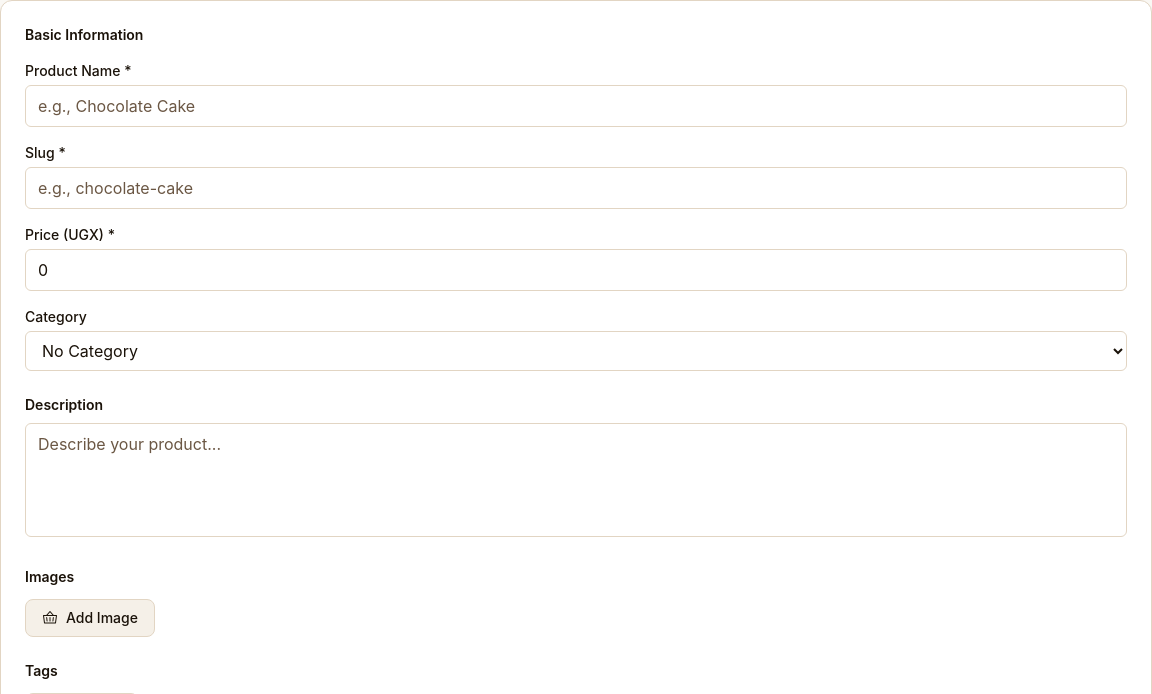
Test: ProductForm › Image handling › adds image URL input when Add Image button is clicked
Click the button "Add Image" at (90, 618), box [25,599,155,637]
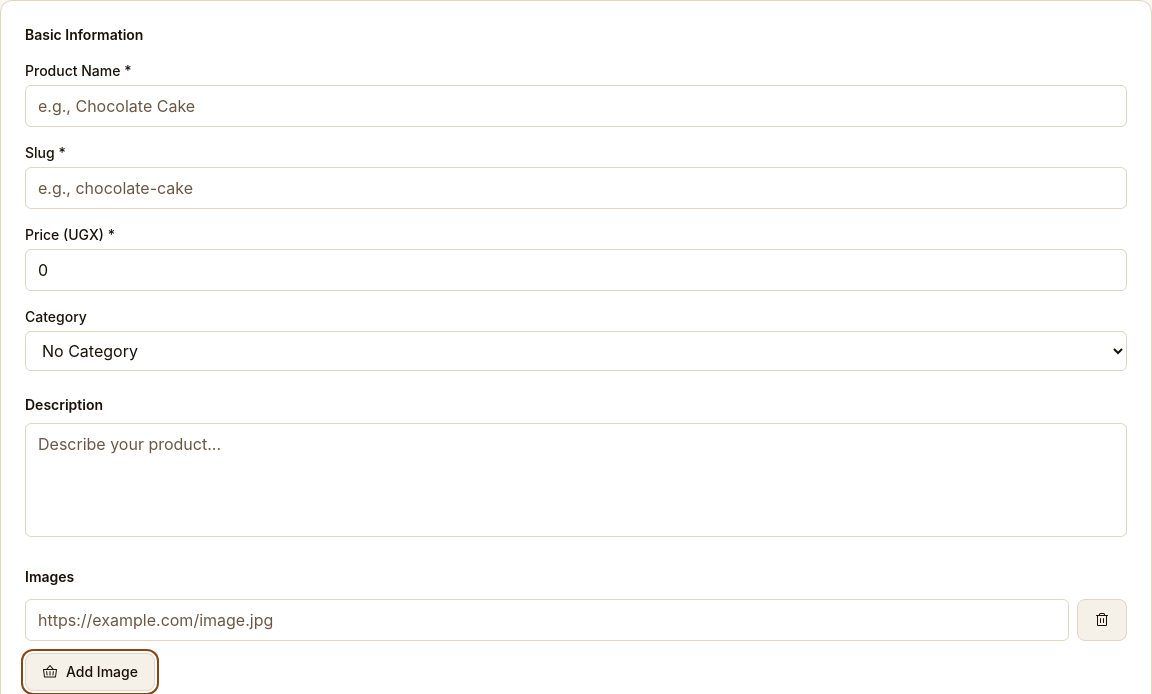
Now the field with placeholder "https://example.com/image.jpg" is shown, box [25,599,1069,641]
